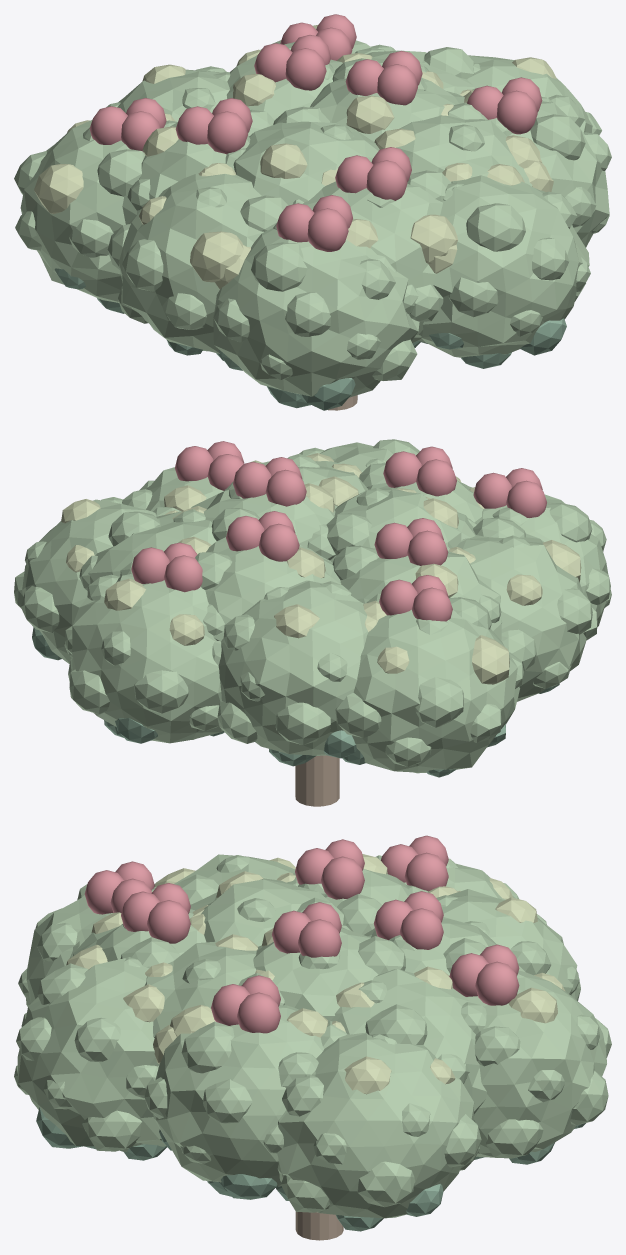
File: library_bush_berry.glb
3 renders of one model, top to bottom at view 1: azimuth 30°, elevation 25°; view 2: azimuth 150°, elevation 25°; view 3: azimuth 270°, elevation 25°, orthographic. The views are drawn at different scales.
Visible parts, largest first — view 1: decor_709568_matte, decor_ab4d58_matte, decor_9bab72_matte, decor_466d54_matte; view 2: decor_709568_matte, decor_ab4d58_matte, decor_9bab72_matte, decor_466d54_matte, decor_806751_matte; view 3: decor_709568_matte, decor_ab4d58_matte, decor_9bab72_matte, decor_466d54_matte, decor_806751_matte.
Part boxes in pixels (x1,y1,x2,y2): decor_709568_matte: (14, 40, 611, 397); decor_ab4d58_matte: (89, 14, 542, 251); decor_9bab72_matte: (34, 25, 556, 289); decor_466d54_matte: (54, 268, 566, 410); decor_709568_matte: (14, 439, 611, 773); decor_ab4d58_matte: (131, 441, 546, 621); decor_9bab72_matte: (61, 453, 581, 684); decor_466d54_matte: (32, 627, 559, 777); decor_806751_matte: (295, 755, 339, 806); decor_709568_matte: (14, 854, 611, 1218); decor_ab4d58_matte: (84, 835, 519, 1033); decor_9bab72_matte: (66, 854, 565, 1094); decor_466d54_matte: (36, 1107, 585, 1231); decor_806751_matte: (295, 1211, 343, 1240).
Size of the model in its own units: 1.72 by 1.03 by 1.62.
